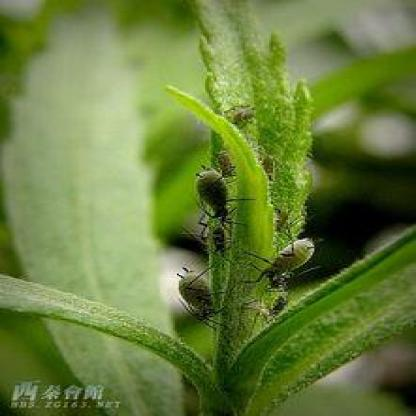aphid: (253, 235, 325, 305), (181, 160, 246, 227), (166, 260, 229, 321)
